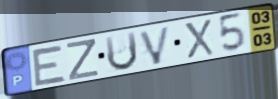5: (216, 10, 248, 55)
E: (30, 44, 69, 88)
U: (102, 29, 139, 73)
V: (137, 24, 173, 67)
X: (182, 18, 216, 61)
Z: (65, 38, 101, 82)
